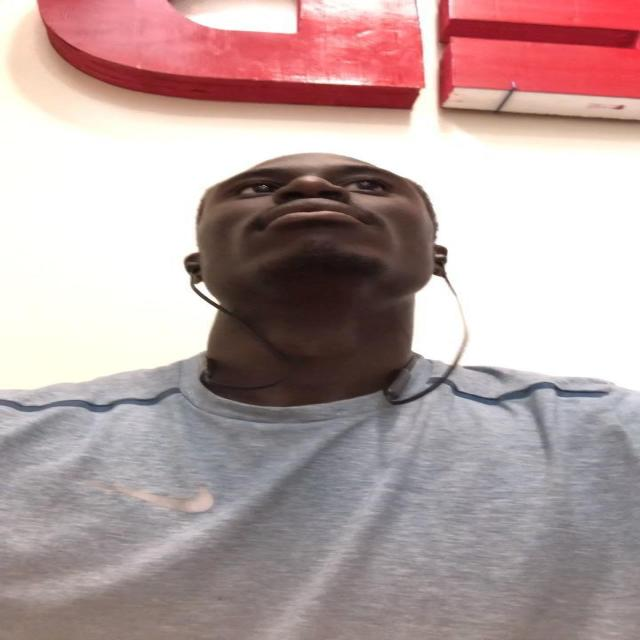face: (185, 157, 435, 313)
